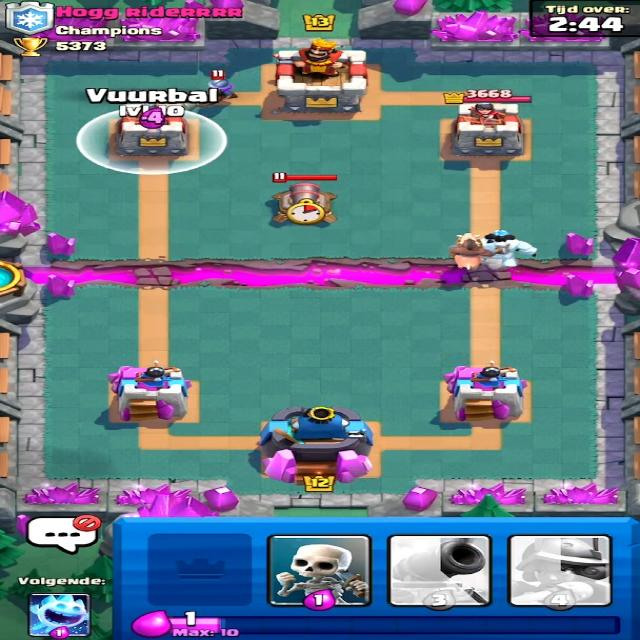Cannon_Card: (382, 535, 500, 609)
Hog_Rider_Troop: (454, 231, 502, 272)
Ice_Golem_Troop: (471, 229, 539, 270)
Musketeer_Card: (503, 532, 608, 608)
Skeleton_Card: (266, 533, 384, 607)
